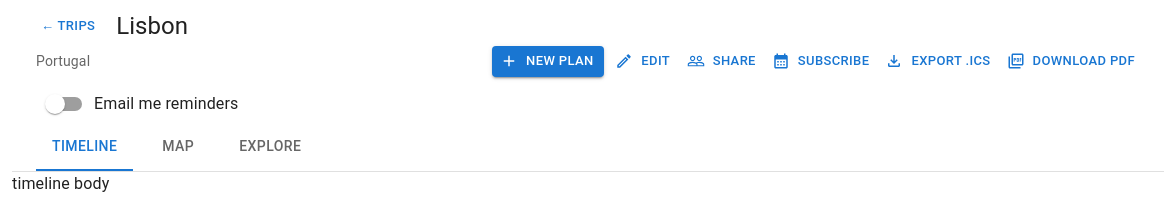
Test: TripDetail › renders the timeline outlet by default and switches to map
Expected: the text with test id "outlet" reads "timeline body", left=12, top=174, right=109, bottom=193
Click the tab "Map". click: (178, 147)
box: left=133, top=123, right=223, bottom=171
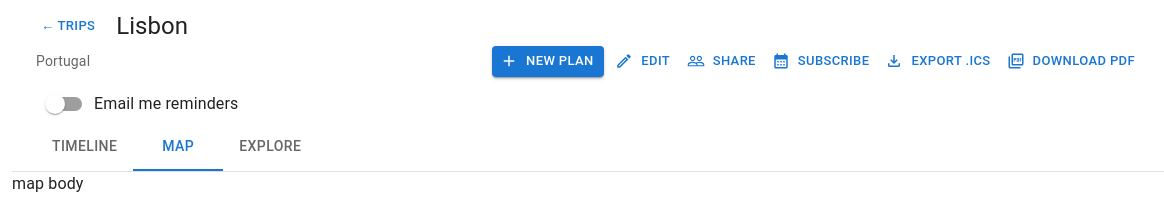
Now the text with test id "outlet" reads "map body", box left=12, top=174, right=84, bottom=193
